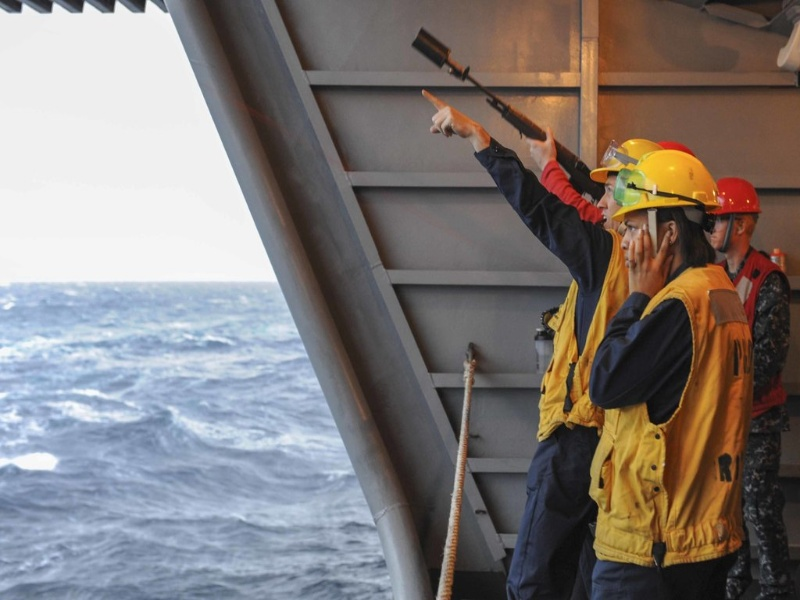Baret: (610, 150, 721, 211)
